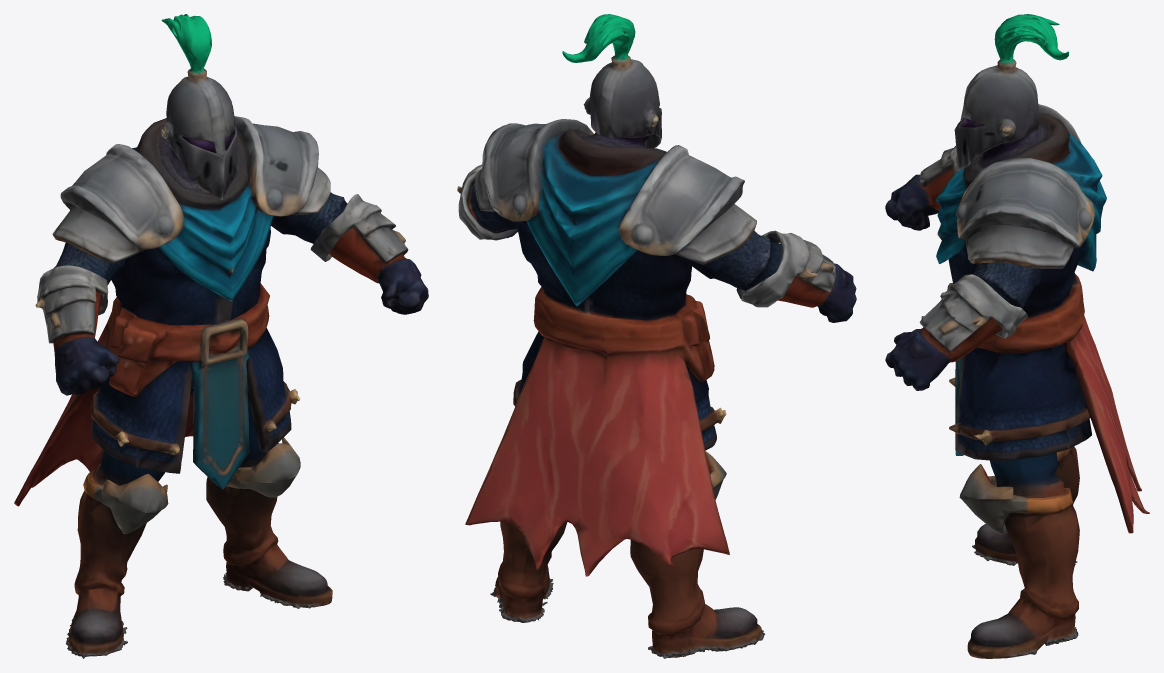
The model's file is raw.glb.
The picture shows the model from 3 angles, left to right: view 1: azimuth 30°, elevation 25°; view 2: azimuth 150°, elevation 25°; view 3: azimuth 270°, elevation 25°; orthographic projection. The views are drawn at different scales.
Parts seen in each view (by area): view 1: runebreaker/magic_trellis_concept_62_s7; view 2: runebreaker/magic_trellis_concept_62_s7; view 3: runebreaker/magic_trellis_concept_62_s7.
Part boxes in pixels (x1=…): runebreaker/magic_trellis_concept_62_s7: x1=14, y1=14, x2=428, y2=658; runebreaker/magic_trellis_concept_62_s7: x1=457, y1=14, x2=856, y2=658; runebreaker/magic_trellis_concept_62_s7: x1=885, y1=14, x2=1149, y2=658.
Bounding box in the file's own units: 0.644 × 1 × 0.4098.
1 material, 1 textured.
